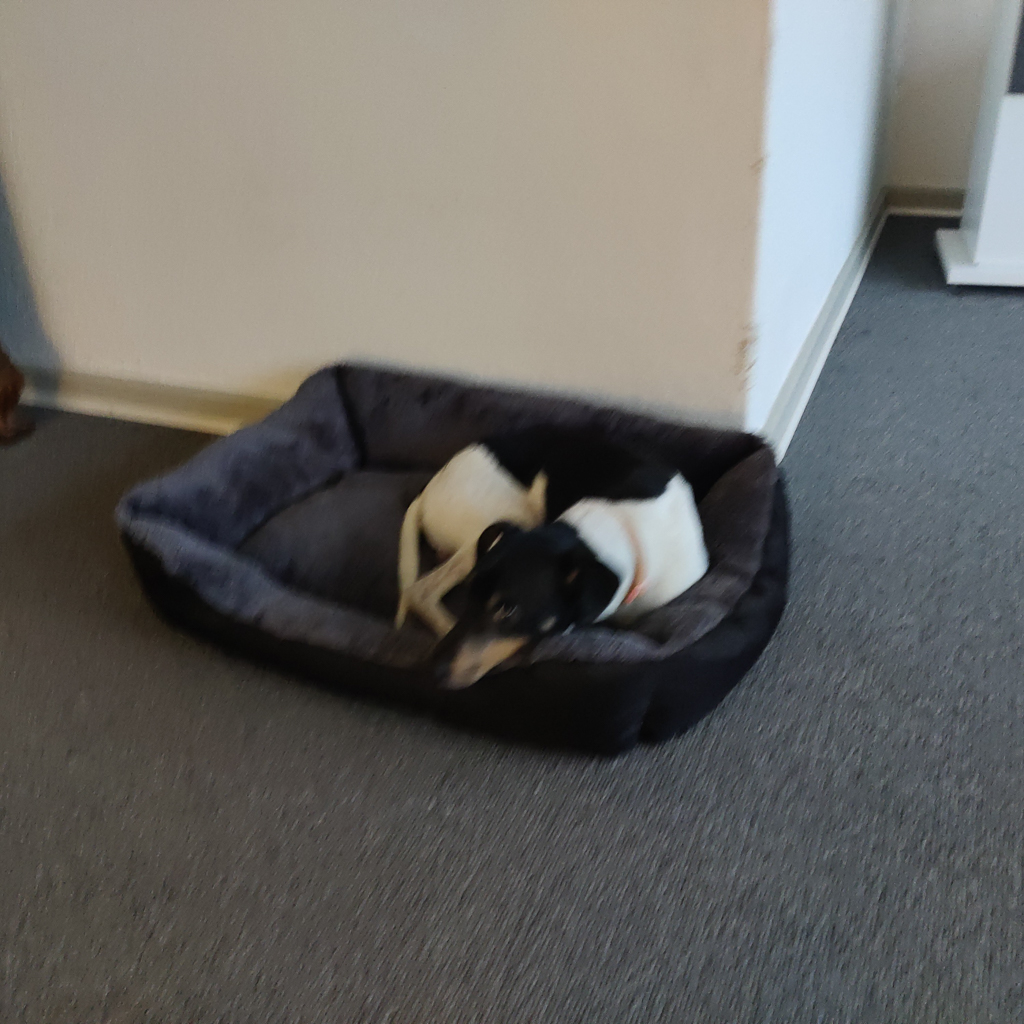Dog: (326, 389, 757, 733)
